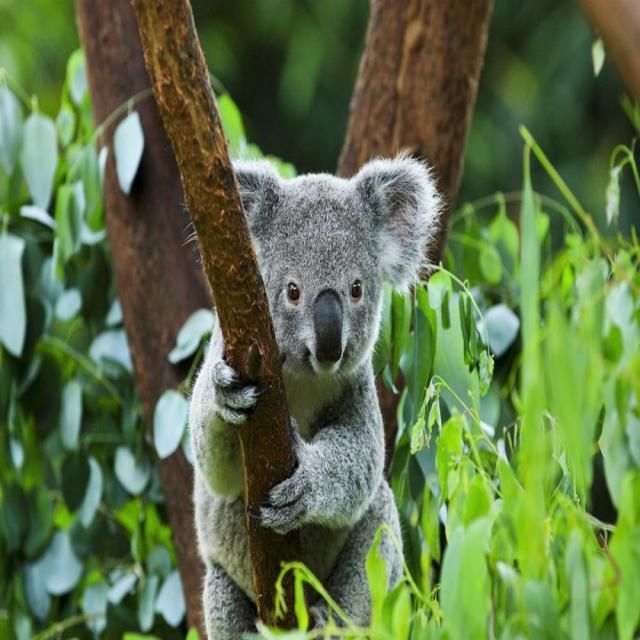koala: (189, 155, 440, 639)
